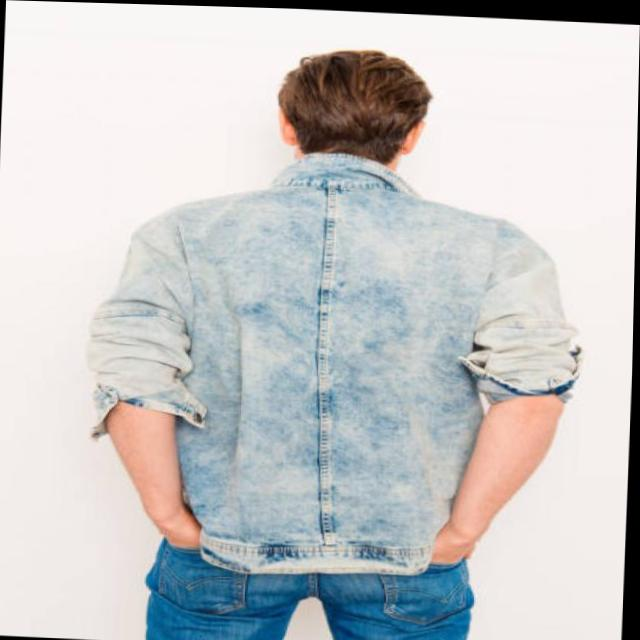no helmet: (243, 25, 448, 197)
